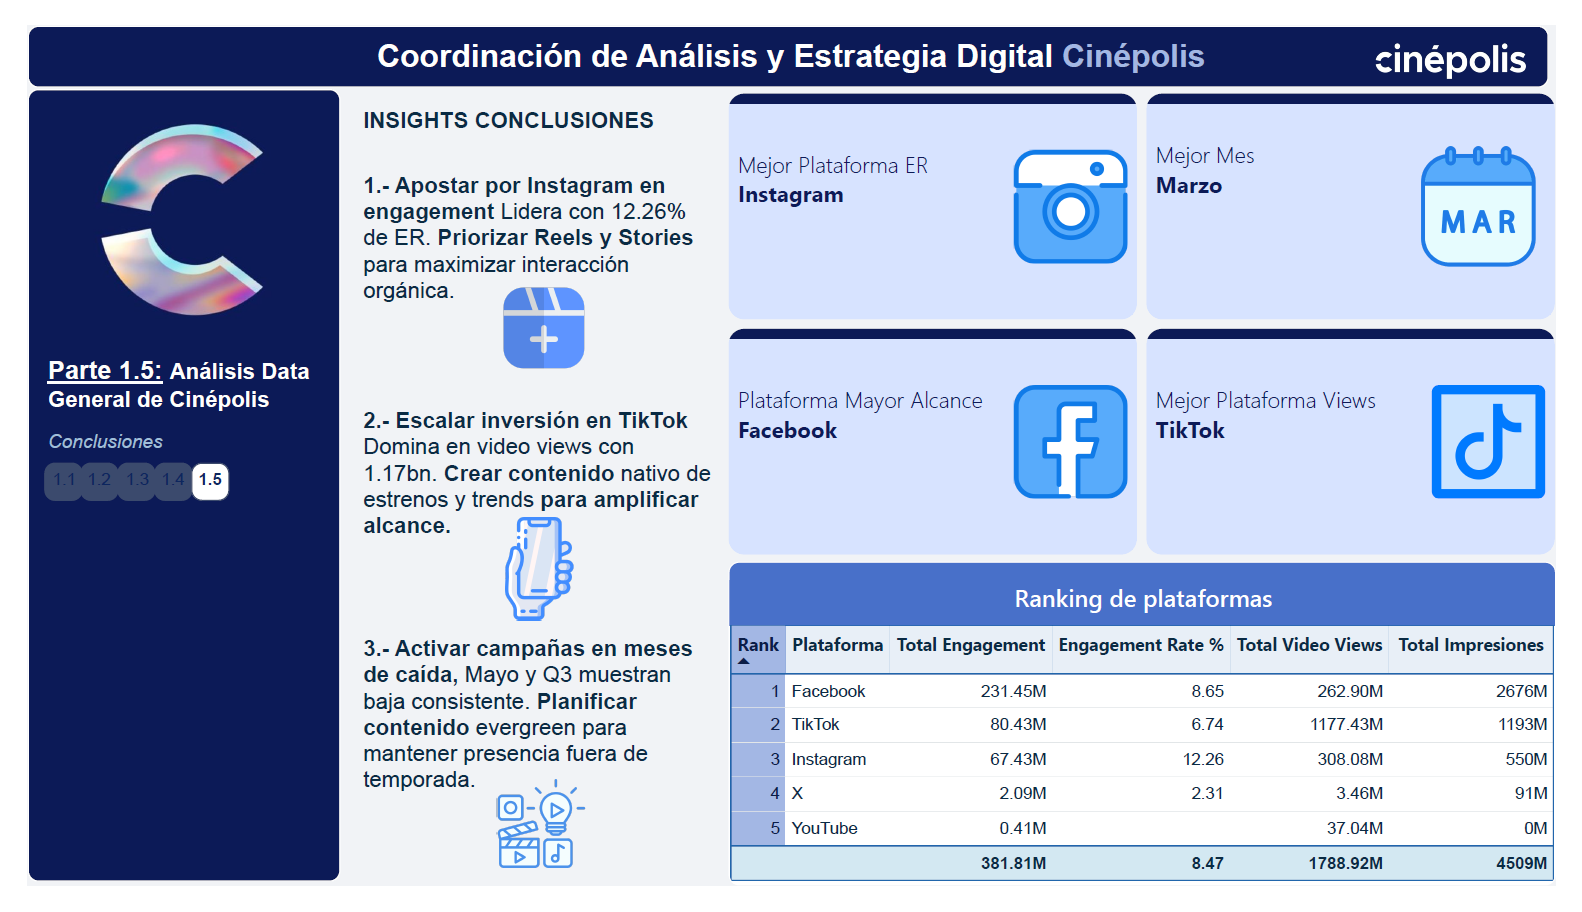

This screenshot's page, from the dashboard's own definition file:
{"tool":"powerbi","page":{"name":"1.5: Conclusiones","canvas":[1280,720],"ordinal":5},"visuals":[{"type":"shape","box":[0,53.3,261.7,663.3],"z":0},{"type":"shape","box":[13.6,365.7,30.7,29.3],"z":1000},{"type":"shape","box":[44.3,365.7,30.7,29.3],"z":2000},{"type":"shape","box":[0,0,1274,52],"z":3000},{"type":"shape","box":[106.4,365.7,30.7,29.3],"z":4000},{"type":"shape","box":[75,365.7,30.7,29.3],"z":5000},{"type":"shape","box":[137.1,365.7,30.7,29.3],"z":6000},{"type":"textbox","box":[16.2,11.2,1246.2,41.2],"z":7000},{"type":"image","box":[1110,0,164.3,58.6],"z":8000},{"type":"image","box":[15,70,228.3,183.3],"z":9000},{"type":"textbox","box":[16.7,276.7,230,95.3],"z":10000},{"type":"textbox","box":[20.7,372,32.7,26],"z":11000},{"type":"textbox","box":[49.6,372.2,25.2,23],"z":12000},{"type":"textbox","box":[81.7,371.7,20.4,19.1],"z":13000},{"type":"textbox","box":[112.2,372.2,25.2,19.1],"z":14000},{"type":"textbox","box":[143,372.2,24.8,19.1],"z":15000},{"type":"textbox","box":[260.7,53.6,326.8,196.4],"z":16000},{"type":"cardVisual","fields":{"Data":["MEDIDAS DAX.Mejor Plataforma ER","MEDIDAS DAX.Mejor Mes","MEDIDAS DAX.Plataforma Mayor Alcance","MEDIDAS DAX.Mejor Plataforma Views"]},"box":[587.2,52.1,692.6,396.8],"z":17000},{"type":"tableEx","title":"Ranking de plataformas","fields":{"Values":["MEDIDAS DAX.Ranking Plataforma","Data anual Cinépolis.Plataforma","MEDIDAS DAX.Total Engagement","MEDIDAS DAX.Engagement Rate %","MEDIDAS DAX.Total Video Views","MEDIDAS DAX.Total Impresiones"]},"box":[587.2,448.9,692.6,271.3],"z":18000},{"type":"textbox","box":[260.7,289.3,326.8,146.4],"z":19000},{"type":"textbox","box":[260.7,496.4,326.8,162.5],"z":20000},{"type":"textbox","box":[599.2,693.8,31.5,16.9],"z":21000},{"type":"image","box":[371.4,391.1,116.1,126.8],"z":22000},{"type":"image","box":[380.3,195.6,105,114.7],"z":23000},{"type":"image","box":[371.8,615.7,115.9,103.8],"z":24000}]}

Visuals, with their boxes in screenshot pixels (x1, y1, x2, y2), scaled from the page's 1280x720 canvas onto the 1582x912 screenshot:
shape: {"left": 0, "top": 68, "right": 323, "bottom": 908}
shape: {"left": 17, "top": 463, "right": 55, "bottom": 500}
shape: {"left": 55, "top": 463, "right": 93, "bottom": 500}
shape: {"left": 0, "top": 0, "right": 1575, "bottom": 66}
shape: {"left": 132, "top": 463, "right": 169, "bottom": 500}
shape: {"left": 93, "top": 463, "right": 131, "bottom": 500}
shape: {"left": 169, "top": 463, "right": 207, "bottom": 500}
textbox: {"left": 20, "top": 14, "right": 1560, "bottom": 66}
image: {"left": 1372, "top": 0, "right": 1575, "bottom": 74}
image: {"left": 19, "top": 89, "right": 301, "bottom": 321}
textbox: {"left": 21, "top": 350, "right": 305, "bottom": 471}
textbox: {"left": 26, "top": 471, "right": 66, "bottom": 504}
textbox: {"left": 61, "top": 471, "right": 92, "bottom": 501}
textbox: {"left": 101, "top": 471, "right": 126, "bottom": 495}
textbox: {"left": 139, "top": 471, "right": 170, "bottom": 496}
textbox: {"left": 177, "top": 471, "right": 207, "bottom": 496}
textbox: {"left": 322, "top": 68, "right": 726, "bottom": 317}
cardVisual - MEDIDAS DAX.Mejor Plataforma ER x MEDIDAS DAX.Mejor Mes: {"left": 726, "top": 66, "right": 1581, "bottom": 569}
"Ranking de plataformas" tableEx: {"left": 726, "top": 569, "right": 1581, "bottom": 911}
textbox: {"left": 322, "top": 366, "right": 726, "bottom": 552}
textbox: {"left": 322, "top": 629, "right": 726, "bottom": 835}
textbox: {"left": 741, "top": 879, "right": 780, "bottom": 900}
image: {"left": 459, "top": 495, "right": 603, "bottom": 656}
image: {"left": 470, "top": 248, "right": 600, "bottom": 393}
image: {"left": 460, "top": 780, "right": 603, "bottom": 911}
